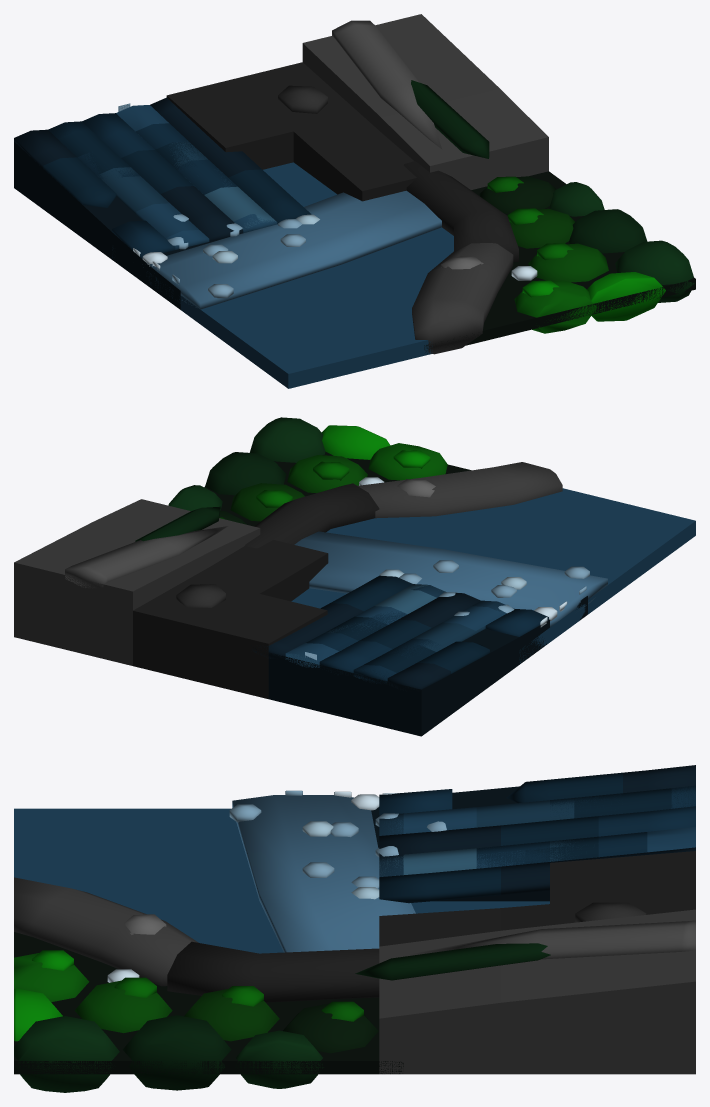
Rendered from newshh-207.glb.
3 views of the same model, one above another, from view 1: azimuth 30°, elevation 25°; view 2: azimuth 150°, elevation 25°; view 3: azimuth 270°, elevation 25° (orthographic). The views are drawn at different scales.
Visible parts, largest first — view 1: newshh-207, newshh-207-water-207, newshh-207-water-269, newshh-207-water-276; view 2: newshh-207, newshh-207-water-207, newshh-207-water-269, newshh-207-water-276; view 3: newshh-207, newshh-207-water-207, newshh-207-water-269, newshh-207-water-276.
Part boxes in pixels (x1=…): newshh-207: x1=14, y1=14, x2=695, y2=388; newshh-207-water-207: x1=14, y1=97, x2=537, y2=298; newshh-207-water-269: x1=76, y1=105, x2=275, y2=266; newshh-207-water-276: x1=48, y1=121, x2=319, y2=284; newshh-207: x1=14, y1=417, x2=695, y2=736; newshh-207-water-207: x1=251, y1=477, x2=589, y2=691; newshh-207-water-269: x1=286, y1=584, x2=557, y2=684; newshh-207-water-276: x1=357, y1=560, x2=586, y2=677; newshh-207: x1=14, y1=786, x2=695, y2=1092; newshh-207-water-207: x1=107, y1=765, x2=695, y2=982; newshh-207-water-269: x1=351, y1=793, x2=695, y2=876; newshh-207-water-276: x1=285, y1=786, x2=695, y2=899.
Size of the model in its own units: 2 by 0.4857 by 2.33.
